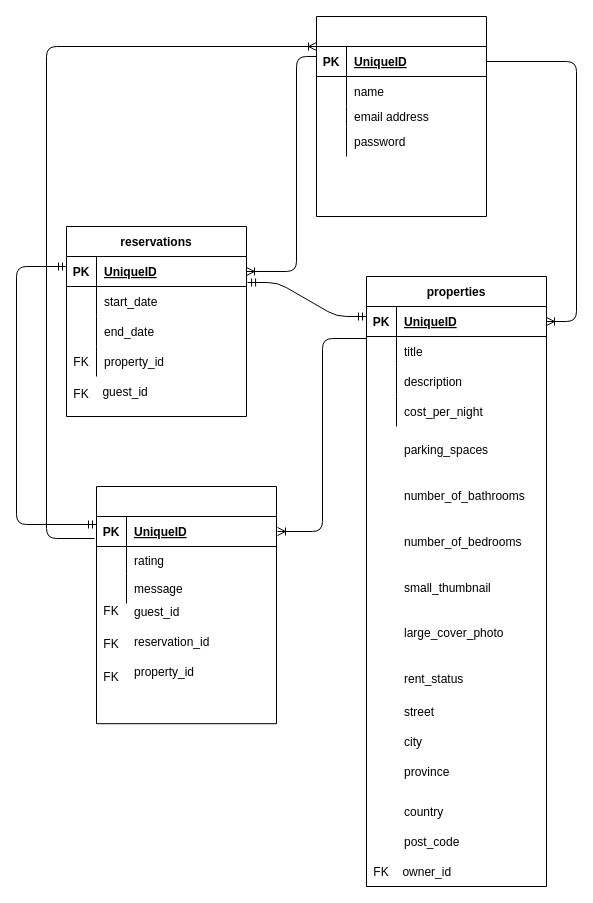
This 593x903 diagram has some shape labels left out. The box of each missing label's shape, as (x1, y1, x2, y2) in pixels:
properties_reivews: (96, 486, 276, 724)
users: (316, 16, 486, 216)
